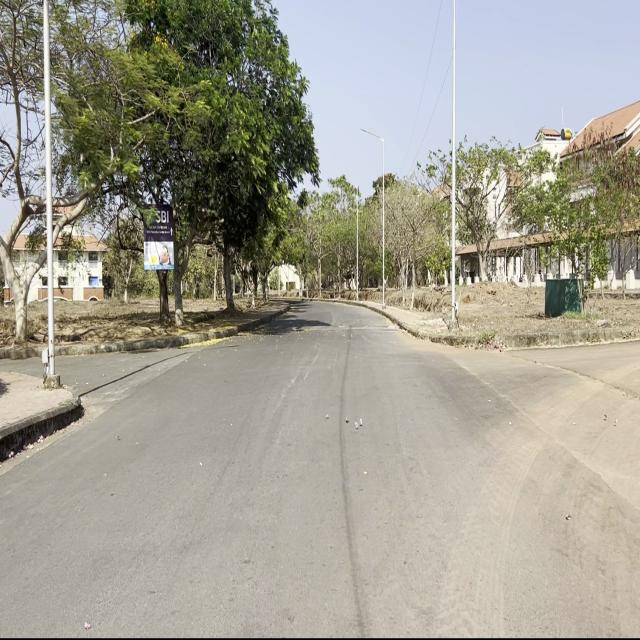Road: (3, 298, 632, 631)
